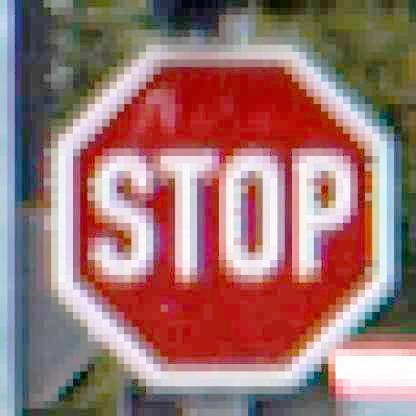Stop Sign: (47, 43, 401, 392)
